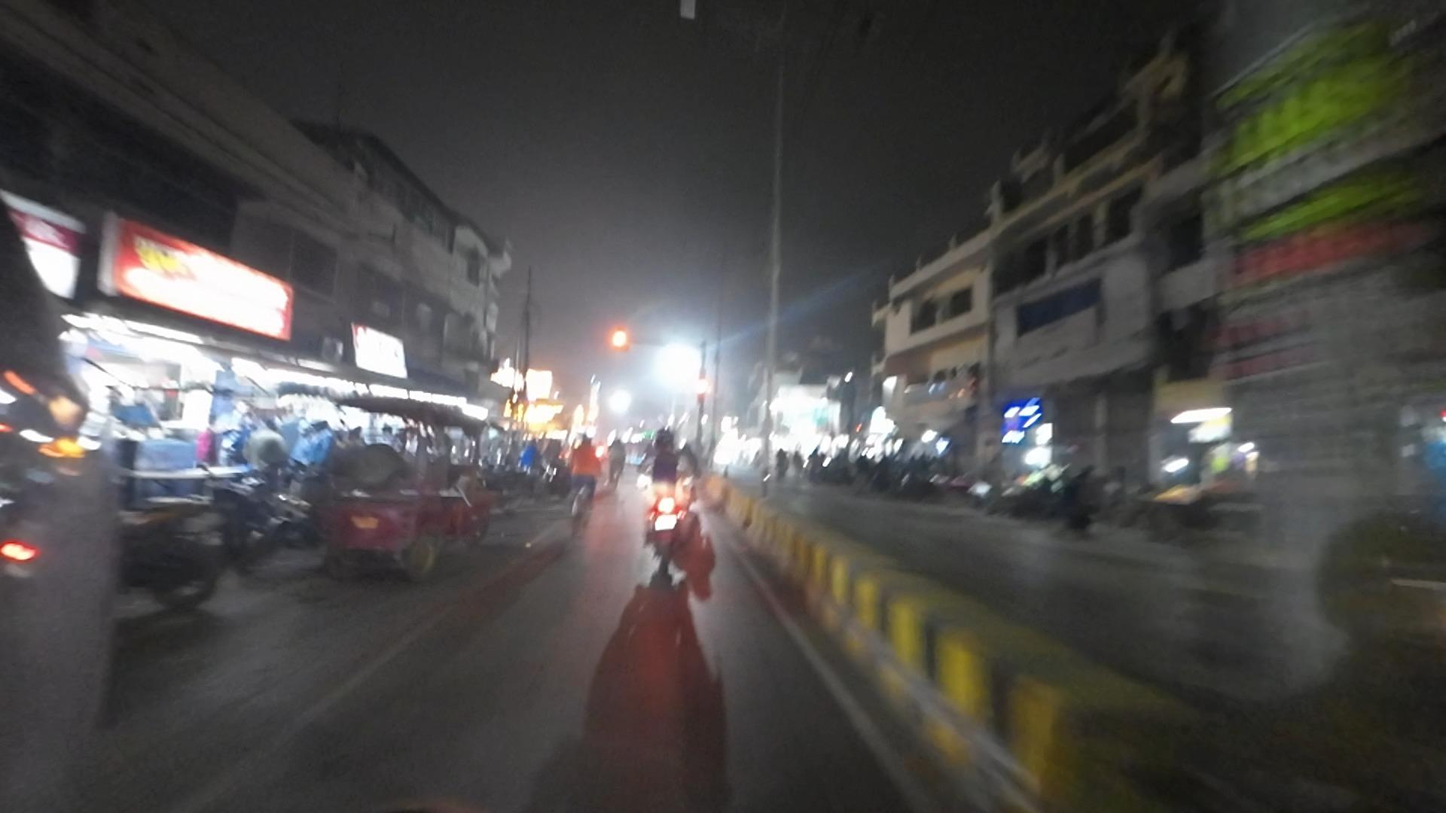streetlight: (796, 6, 885, 42)
